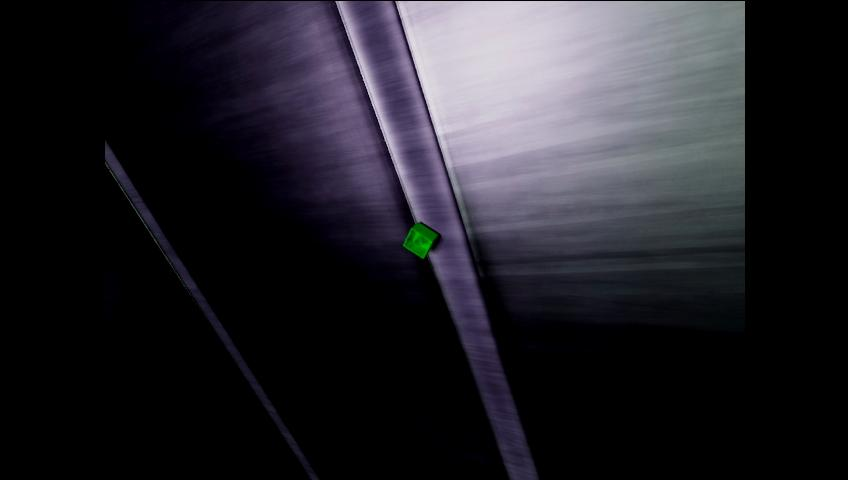2x2_green: (403, 222, 436, 258)
